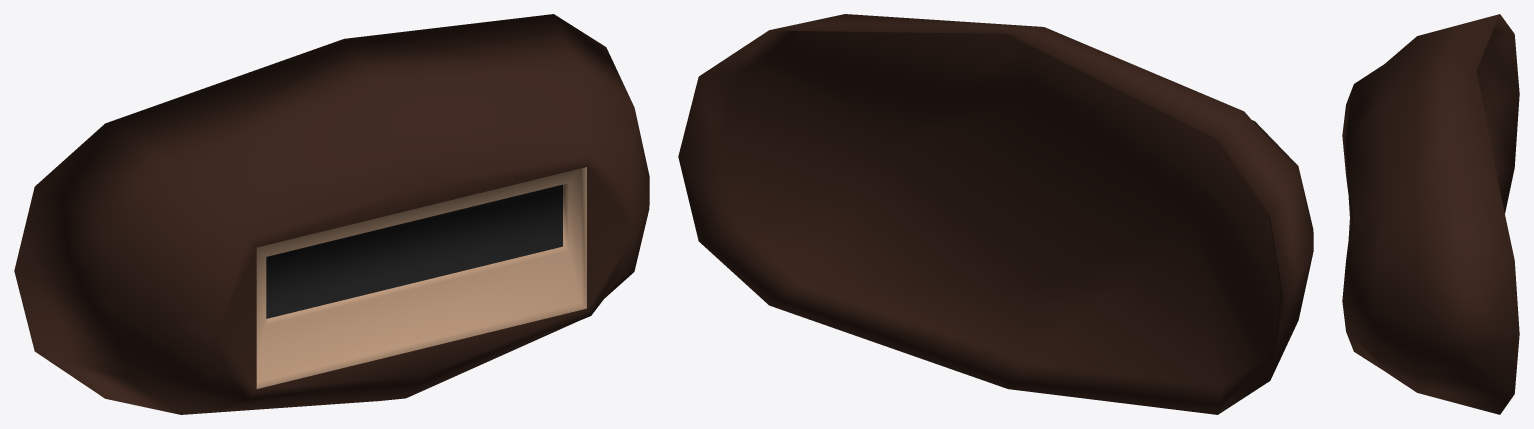
Rendered from hollow_tree_shop.glb.
3 views of the same model, side by side, from view 1: azimuth 30°, elevation 25°; view 2: azimuth 150°, elevation 25°; view 3: azimuth 270°, elevation 25° (orthographic). The views are drawn at different scales.
Visible parts, largest first — view 1: shop; view 2: shop; view 3: shop.
Boxes of the visible parts, x1=… form: shop: x1=14, y1=14, x2=649, y2=414; shop: x1=678, y1=14, x2=1313, y2=414; shop: x1=1342, y1=14, x2=1519, y2=414.
Size of the model in its own units: 4.21 by 2.36 by 1.31.
